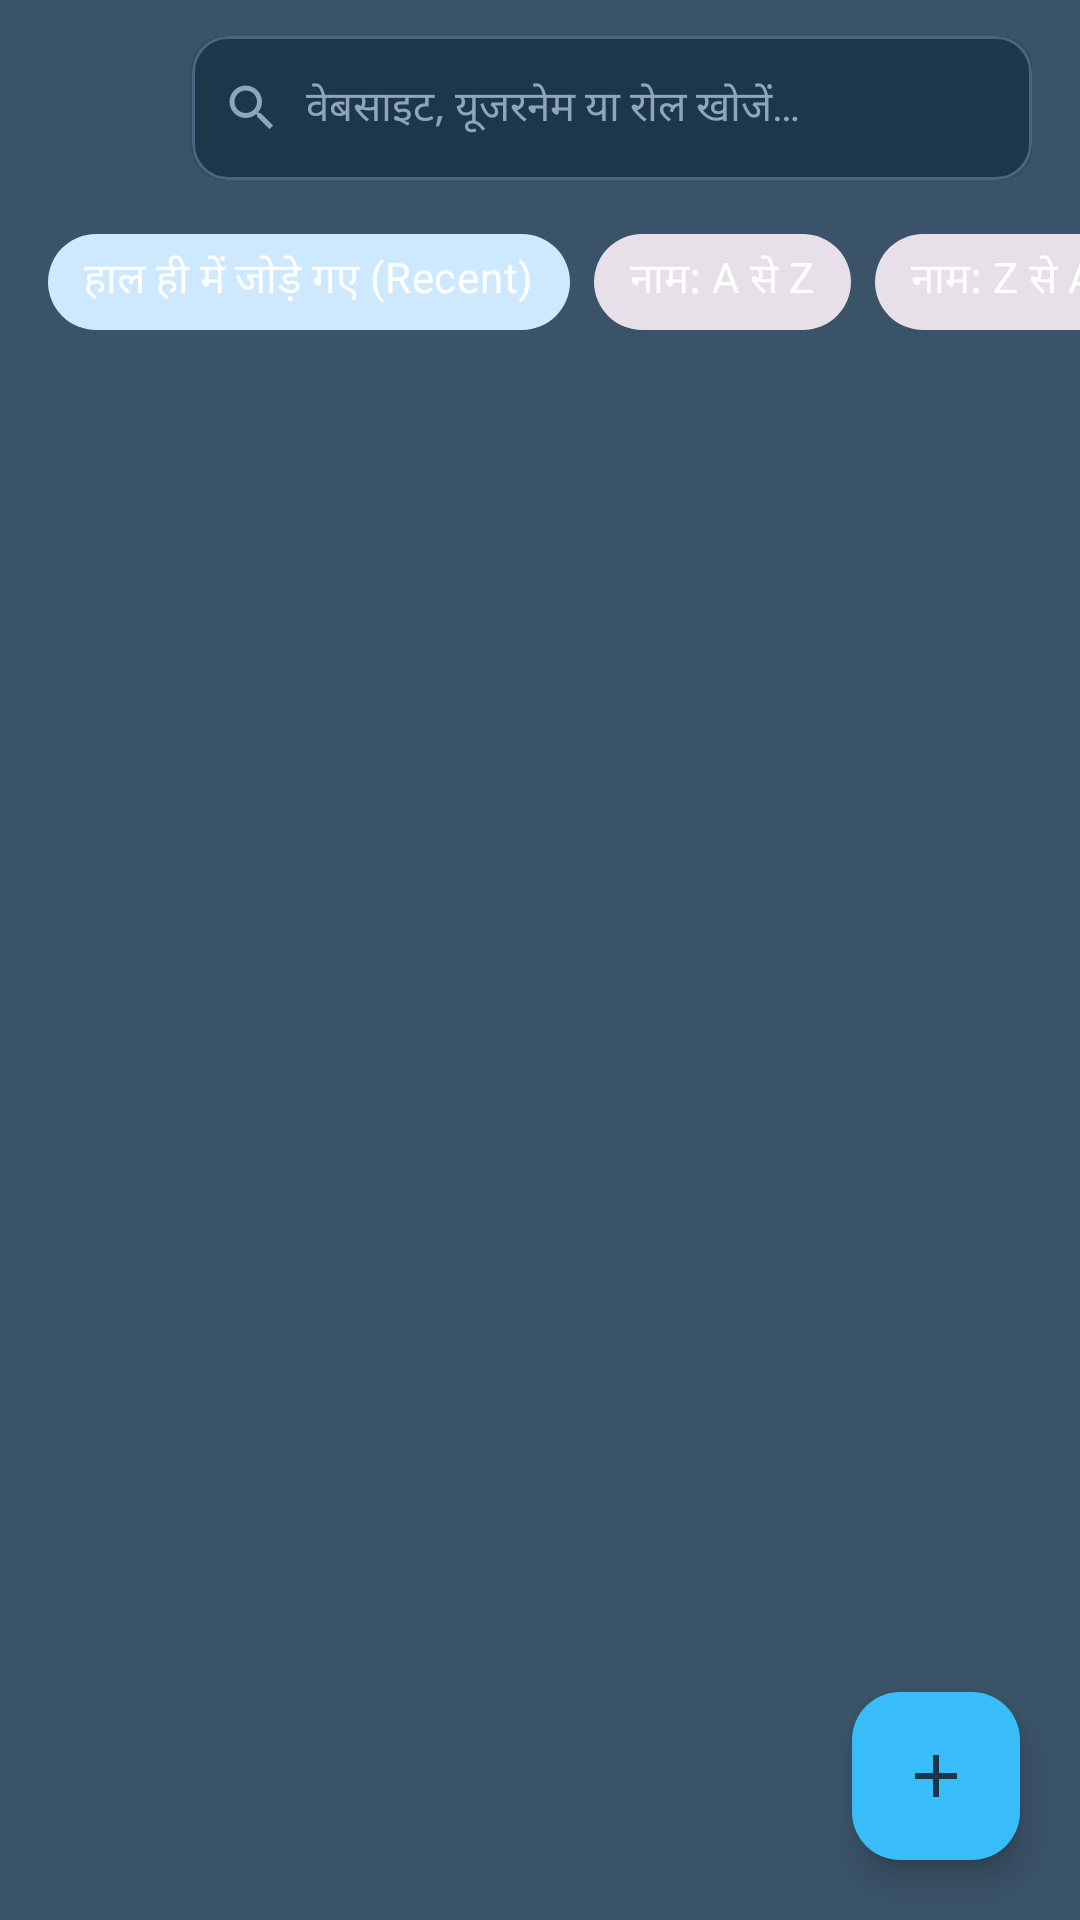

Icon click points for this 1080px×1920px phone screenshot, format (x=x, y=y):
Search: (x=251, y=107)
नया पासवर्ड जोड़ें: (x=936, y=1776)
